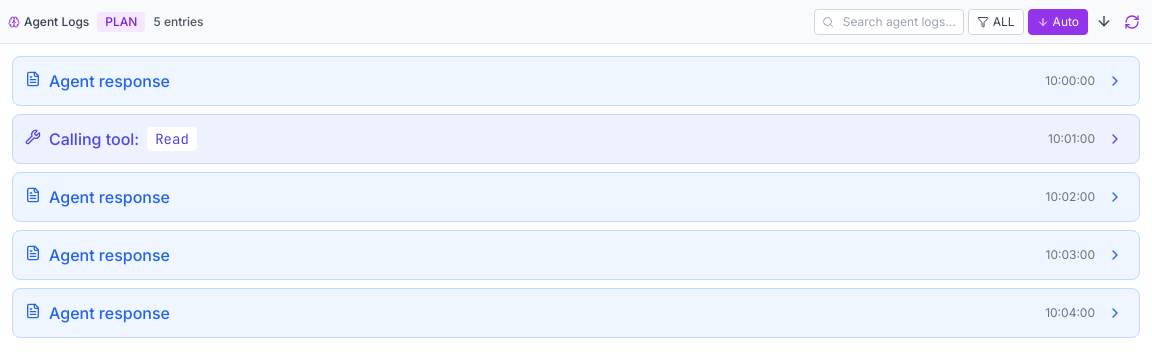
Test: AgentLogsPanel Component › Event Type Filter Menu › should filter by TOOL event type
Expected: the text "5 entries" is shown, [153, 14, 204, 30]
Note: Open filter menu
Click the button titled "Filter by event type" at (996,22), box [968, 8, 1024, 34]
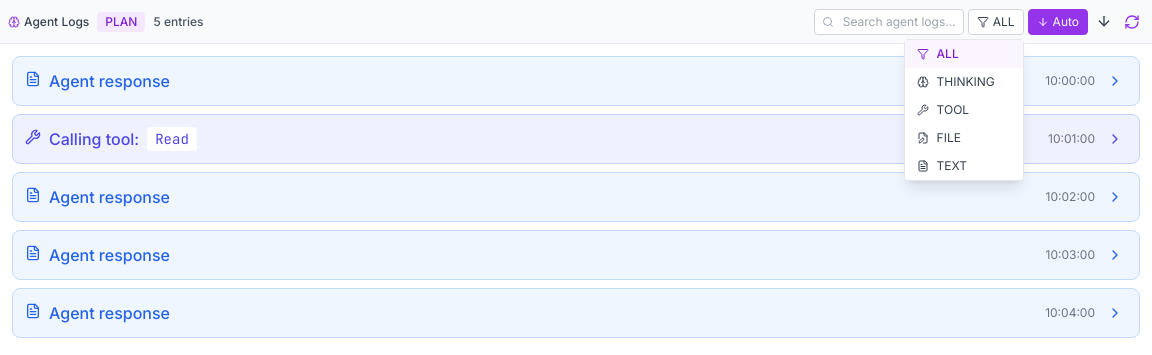
Note: Select TOOL filter
Click the button "TOOL" at (964,110), box [905, 96, 1023, 124]
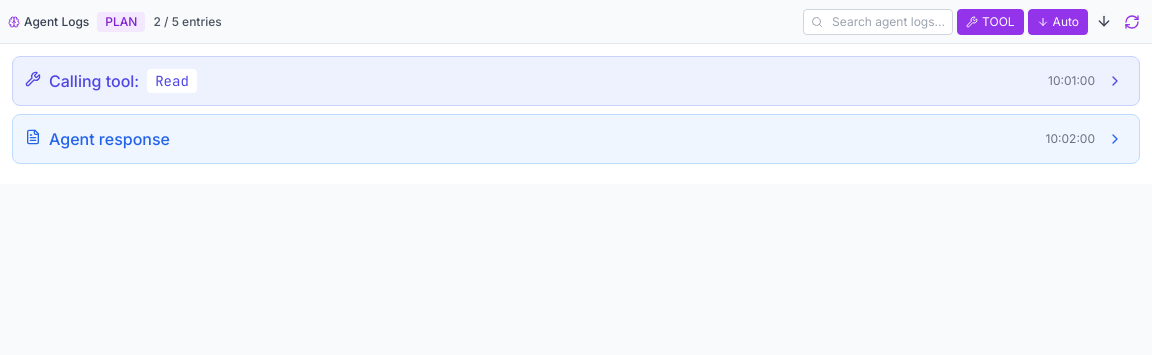
Now the text "2 / 5 entries" is shown, box [153, 14, 222, 30]
